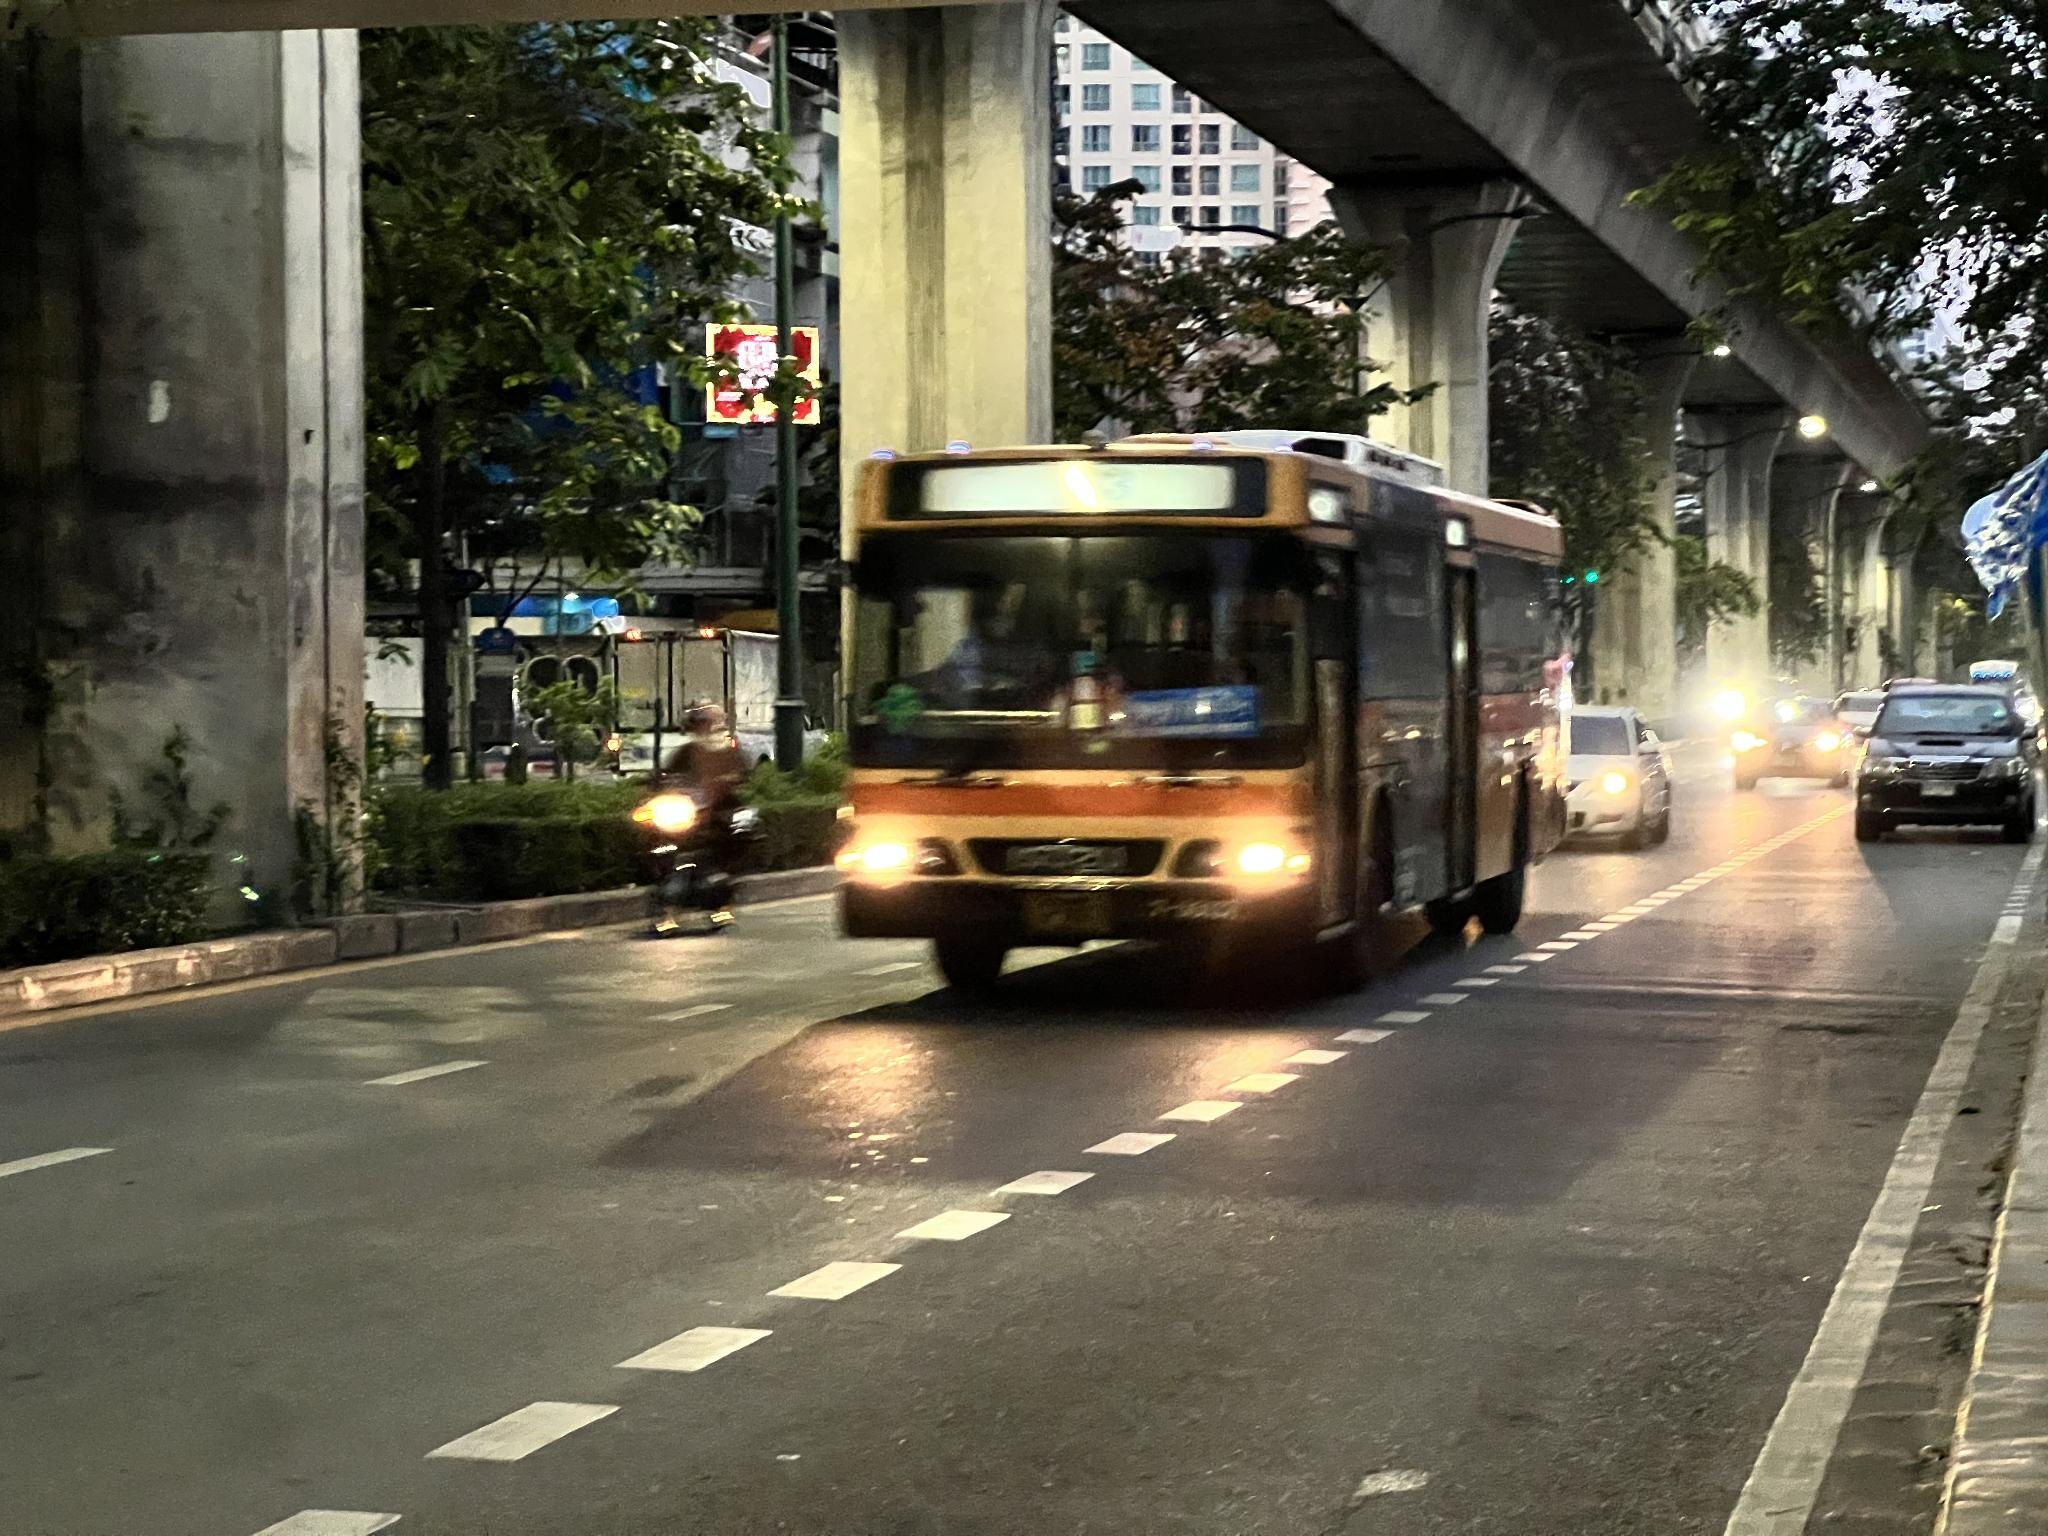BMTA-bus: (830, 434, 1566, 1013)
Bus Line Number: (1019, 460, 1126, 516)
Bus Side Number: (1142, 899, 1261, 926)
Destination Sign: (1113, 686, 1259, 737)
